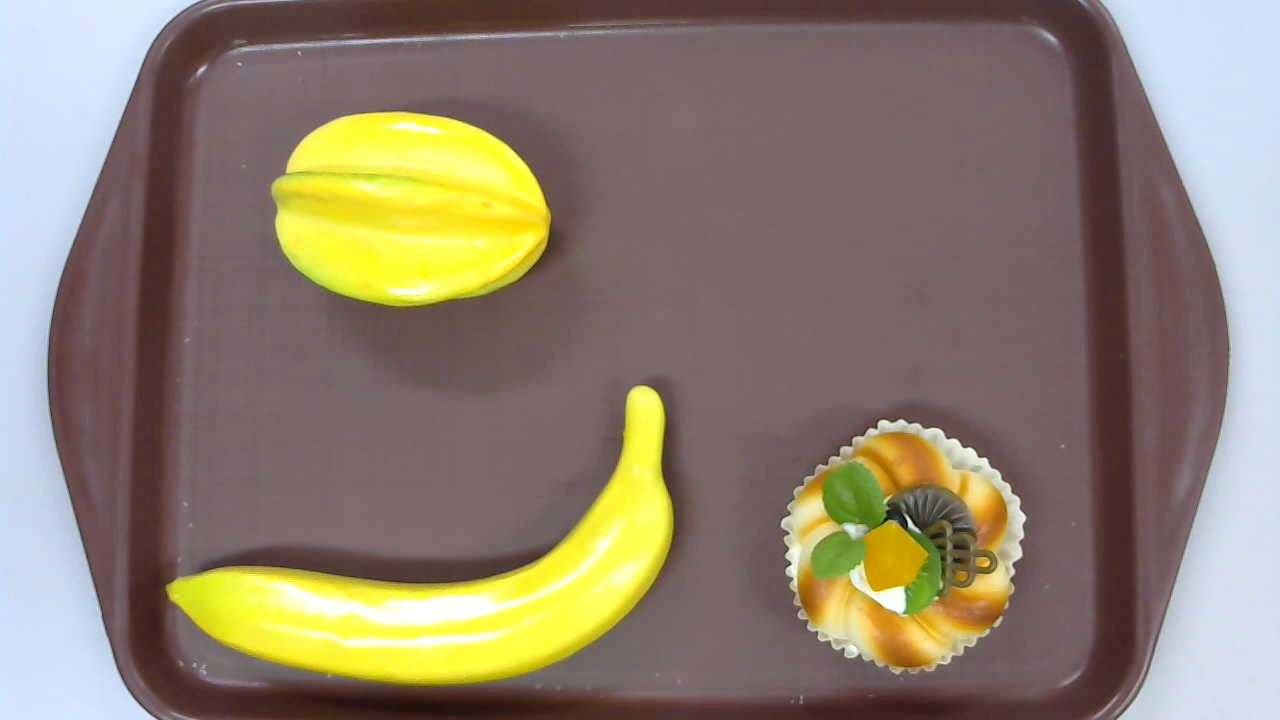banana: (165, 384, 676, 687)
fruit tart: (780, 417, 1027, 674)
star fruit: (268, 111, 553, 309)
